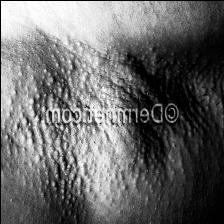Non-Cancerous Skin Condition: (18, 24, 224, 103), (2, 130, 184, 198)
